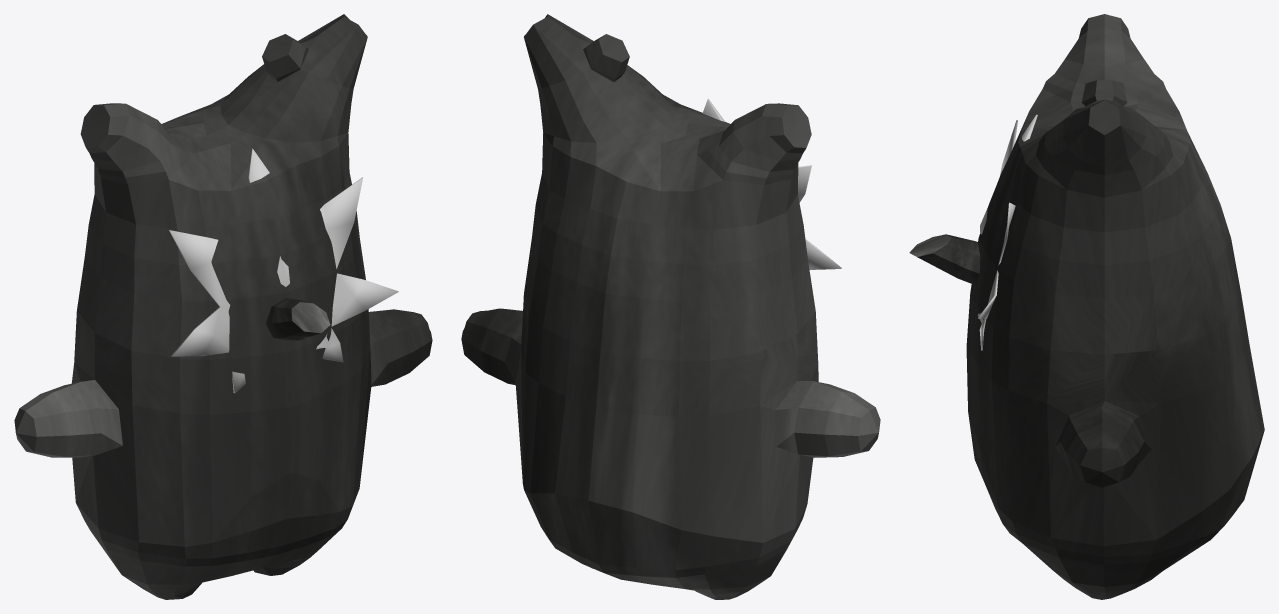
The model's file is frame_0007.obj.
3 views of the same model, side by side, from view 1: azimuth 30°, elevation 25°; view 2: azimuth 150°, elevation 25°; view 3: azimuth 270°, elevation 25° (orthographic).
Parts seen in each view (by area): view 1: korok, leaf.003_柱体.013, nose.003_柱体.011; view 2: korok, leaf.003_柱体.013; view 3: korok, nose.003_柱体.011, leaf.003_柱体.013.
Boxes of the visible parts, left/top/right/bottom form: korok: left=14, top=14, right=432, bottom=599; leaf.003_柱体.013: left=169, top=148, right=398, bottom=393; nose.003_柱体.011: left=265, top=298, right=330, bottom=340; korok: left=461, top=14, right=880, bottom=599; leaf.003_柱体.013: left=702, top=98, right=841, bottom=269; korok: left=966, top=14, right=1264, bottom=599; nose.003_柱体.011: left=909, top=234, right=980, bottom=285; leaf.003_柱体.013: left=977, top=114, right=1037, bottom=350.
Bounding box in the file's own units: 1.92 × 2.38 × 1.44.
